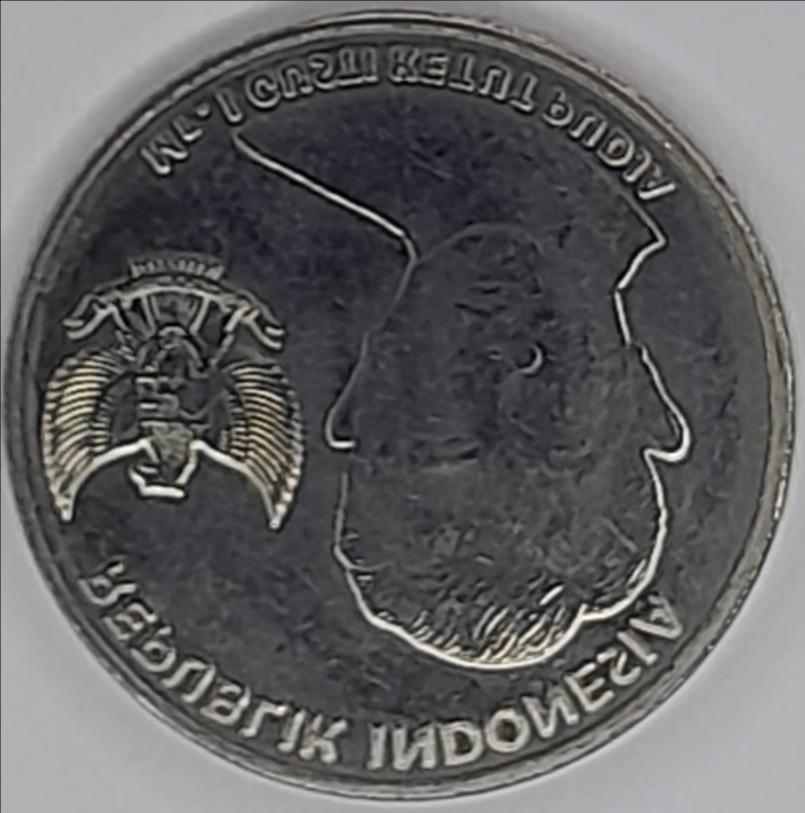coin_1000_e2016: (14, 16, 794, 813)
